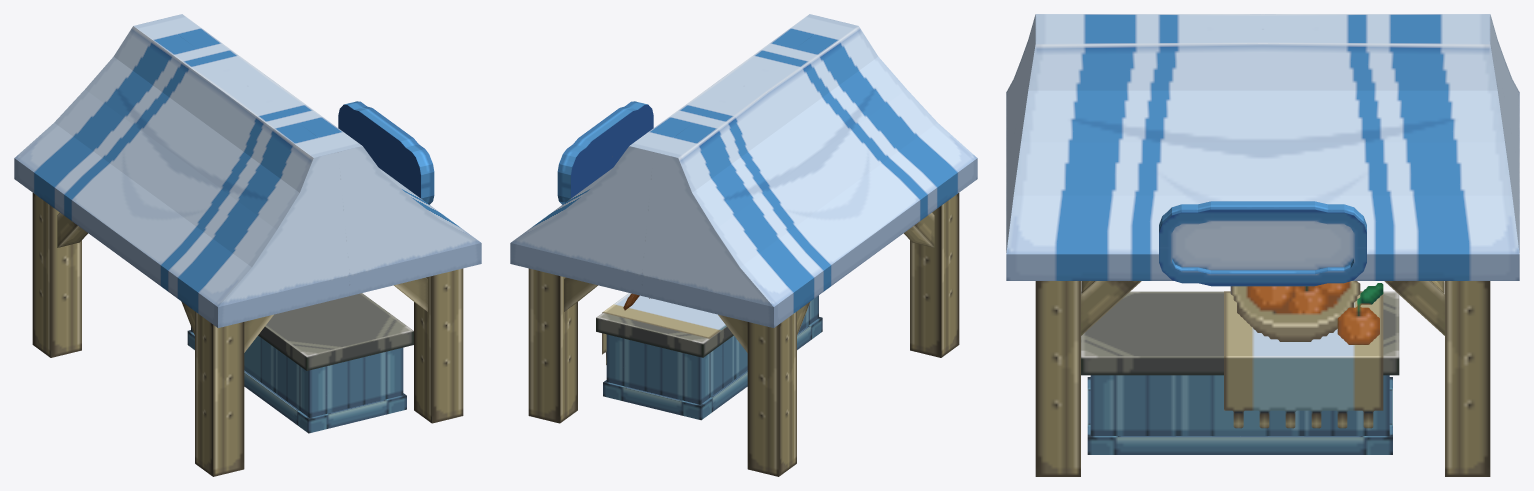
File: Prp_3D_BazaarStall1.fbx
The picture shows the model from 3 angles, left to right: view 1: azimuth 30°, elevation 25°; view 2: azimuth 150°, elevation 25°; view 3: azimuth 270°, elevation 25°; orthographic projection. The views are drawn at different scales.
Parts seen in each view (by area): view 1: BazaarStall1; view 2: BazaarStall1; view 3: BazaarStall1.
Part boxes in pixels (<box>): BazaarStall1: <box>14,14,481,476</box>; BazaarStall1: <box>510,14,977,476</box>; BazaarStall1: <box>1006,14,1519,476</box>.
Bounding box in the file's own units: 365 × 371 × 465.
